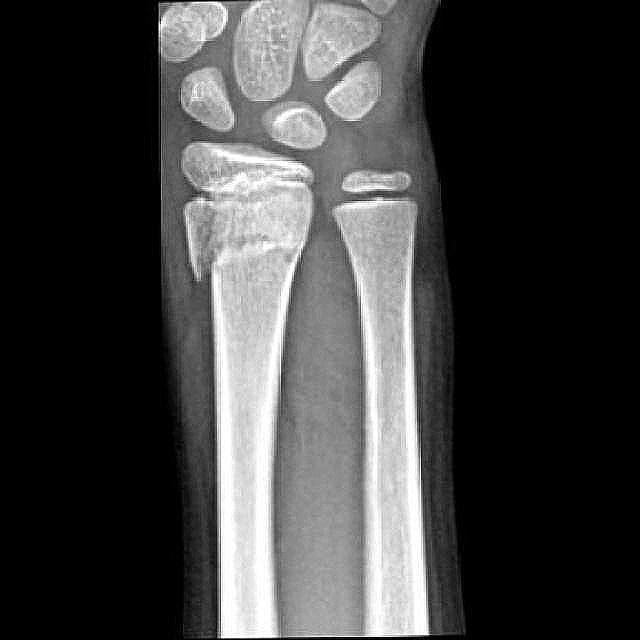bone: (185, 223, 312, 288)
